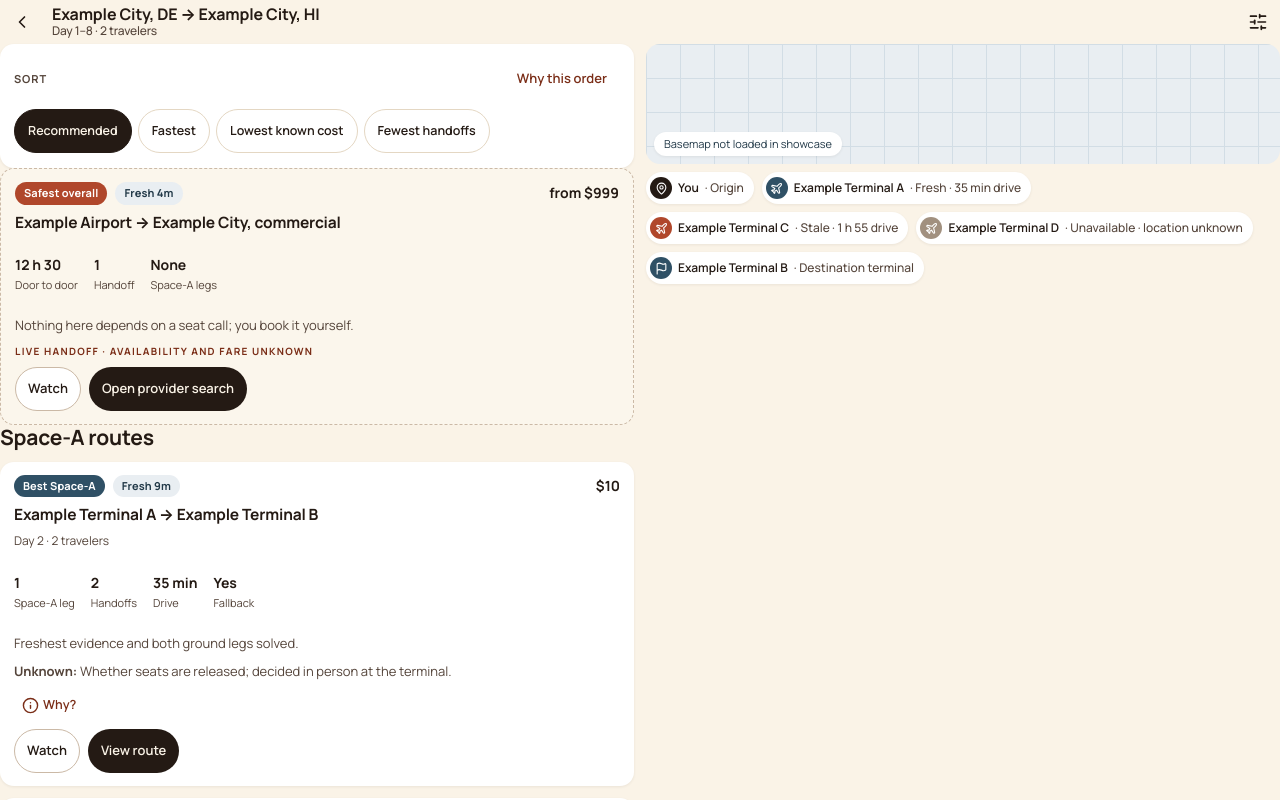
Test: Why this order › opens a labelled sheet with the comparator outcomes
The image size is (1280, 800).
Click the button "Why this order": [562, 79] box [504,57,620,101]
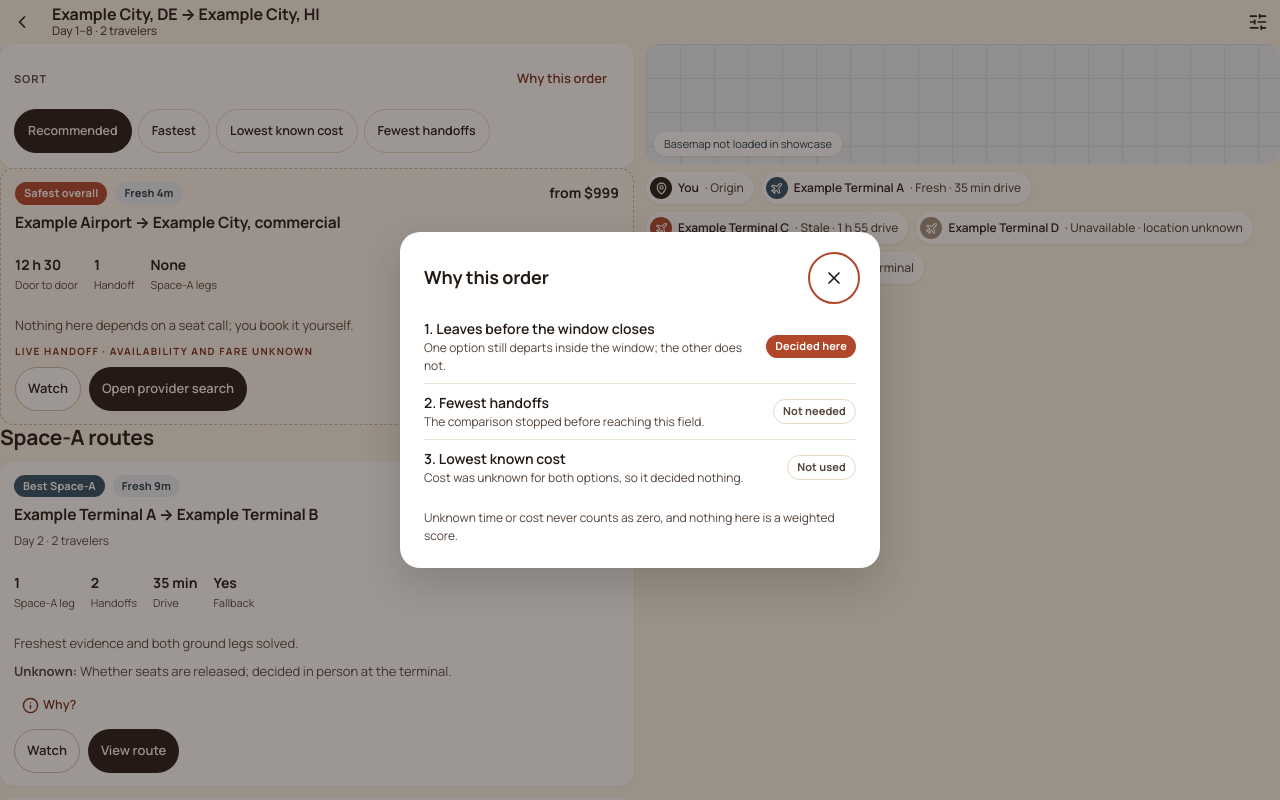
Result: the text "Decided here" is shown at [766,335,856,358]
Result: the text "Not needed" is shown at [773,399,856,424]
Result: the text "Not used" is shown at [787,455,856,480]
